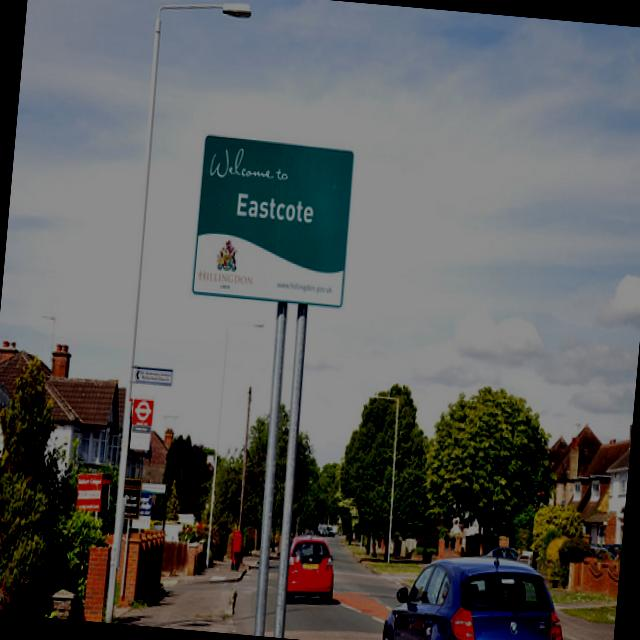Vehicle: (379, 538, 579, 640), (284, 534, 336, 605), (482, 545, 522, 561), (318, 524, 336, 537)
